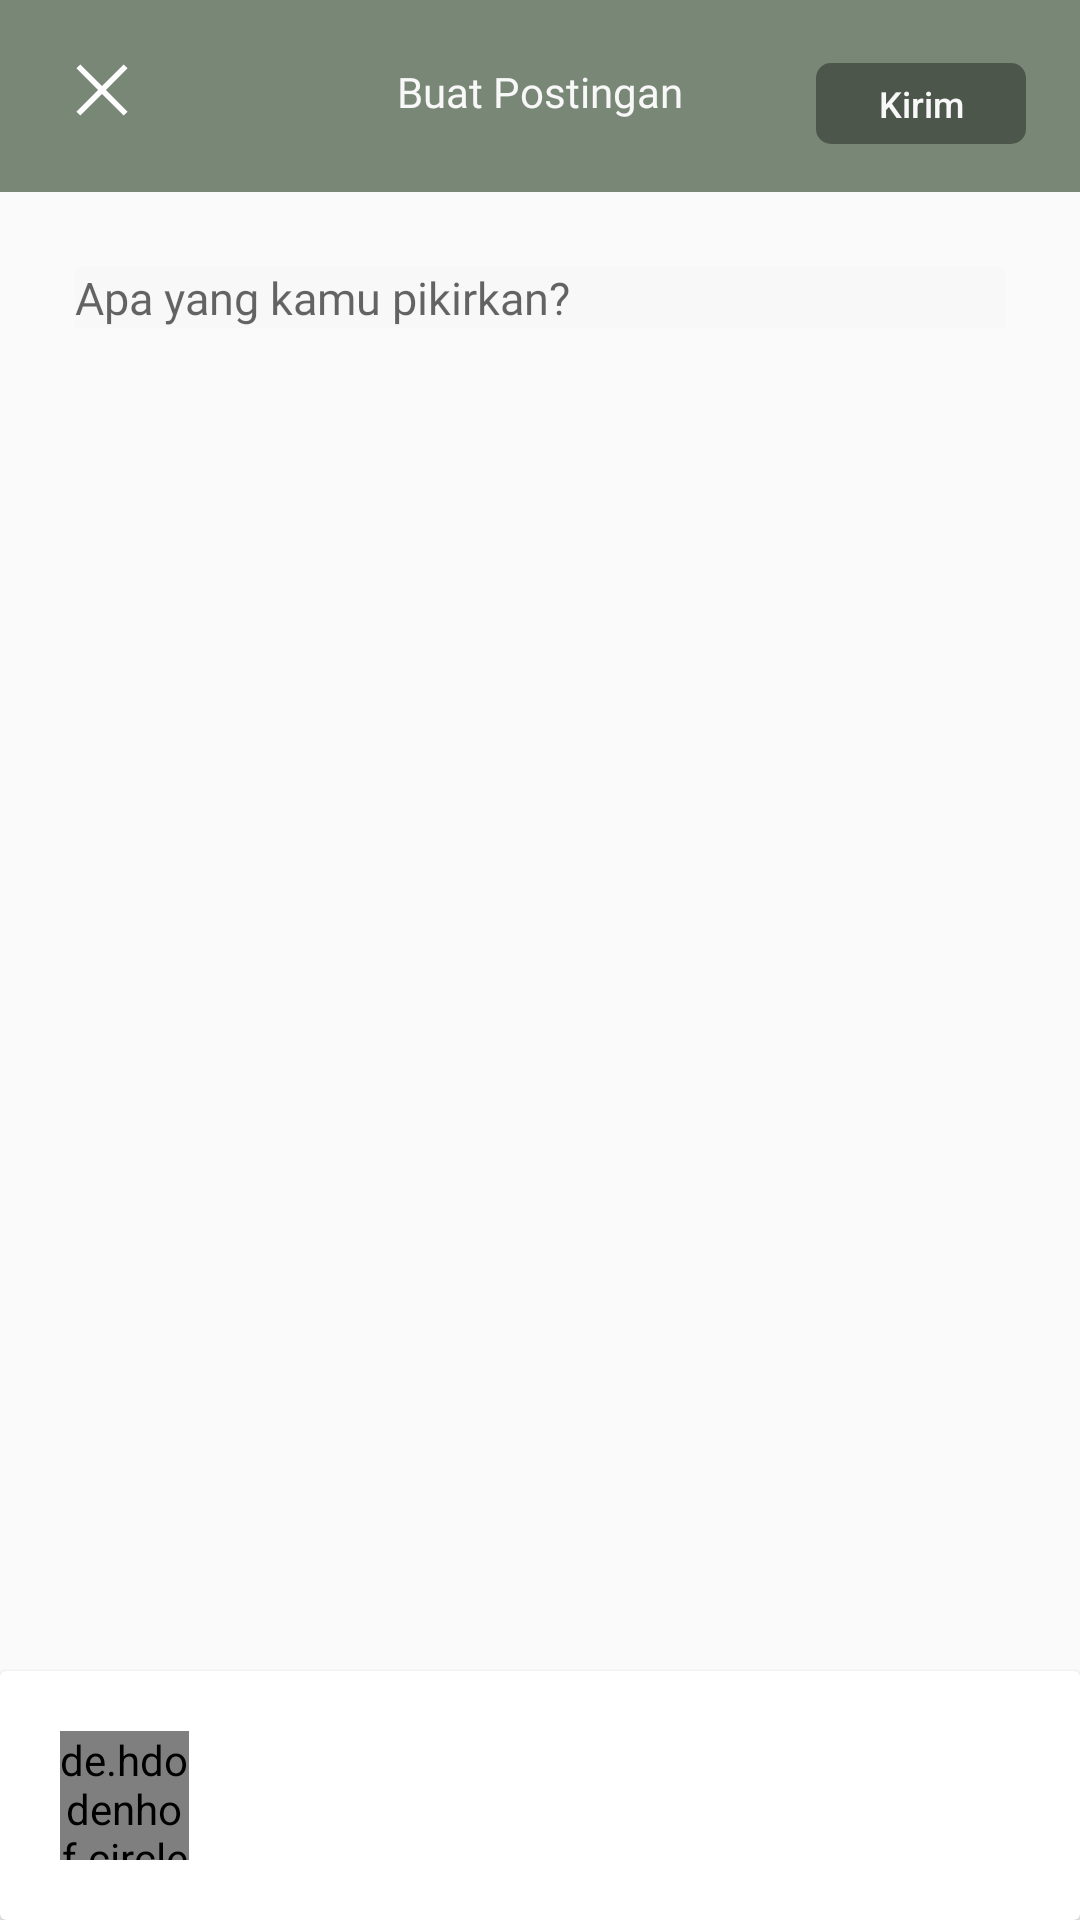

Icon bounding boxes for this 1080 x 1920 phone screenshot, format (x1, y1, x2, y2):
cancel: (76, 64, 128, 116)
